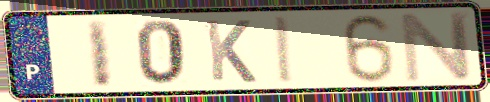0: (133, 18, 186, 88)
6: (342, 11, 397, 85)
I: (83, 17, 115, 90), (275, 14, 297, 86)
K: (202, 17, 259, 85)
N: (398, 9, 476, 84)
